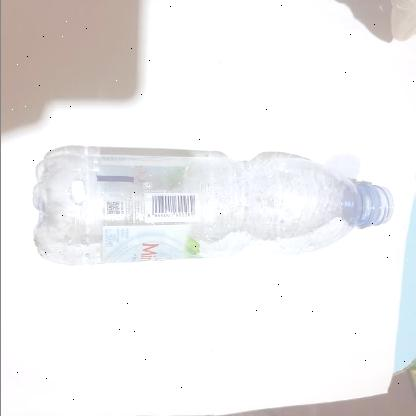Plastic Bottle: (23, 129, 403, 301)
